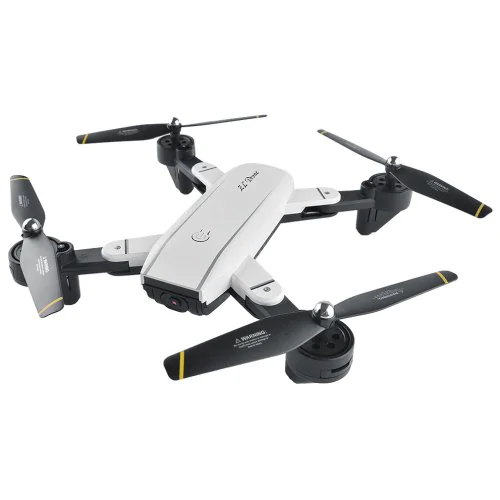drone: (5, 112, 497, 391)
